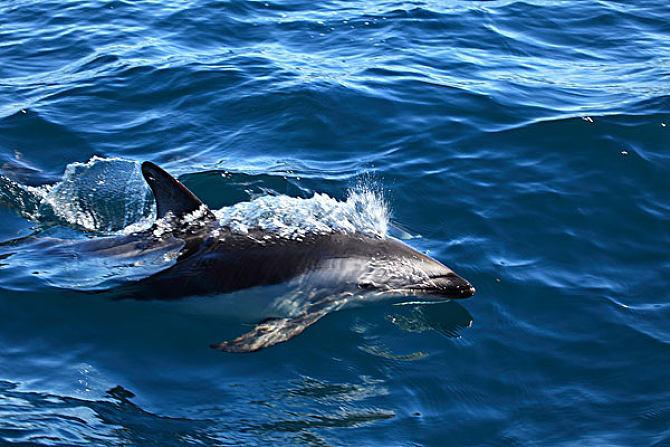fish: (91, 159, 479, 352)
